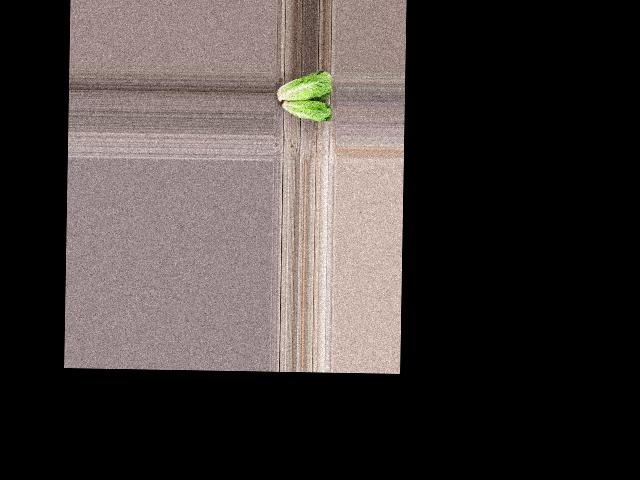lettuce: (274, 68, 334, 102)
